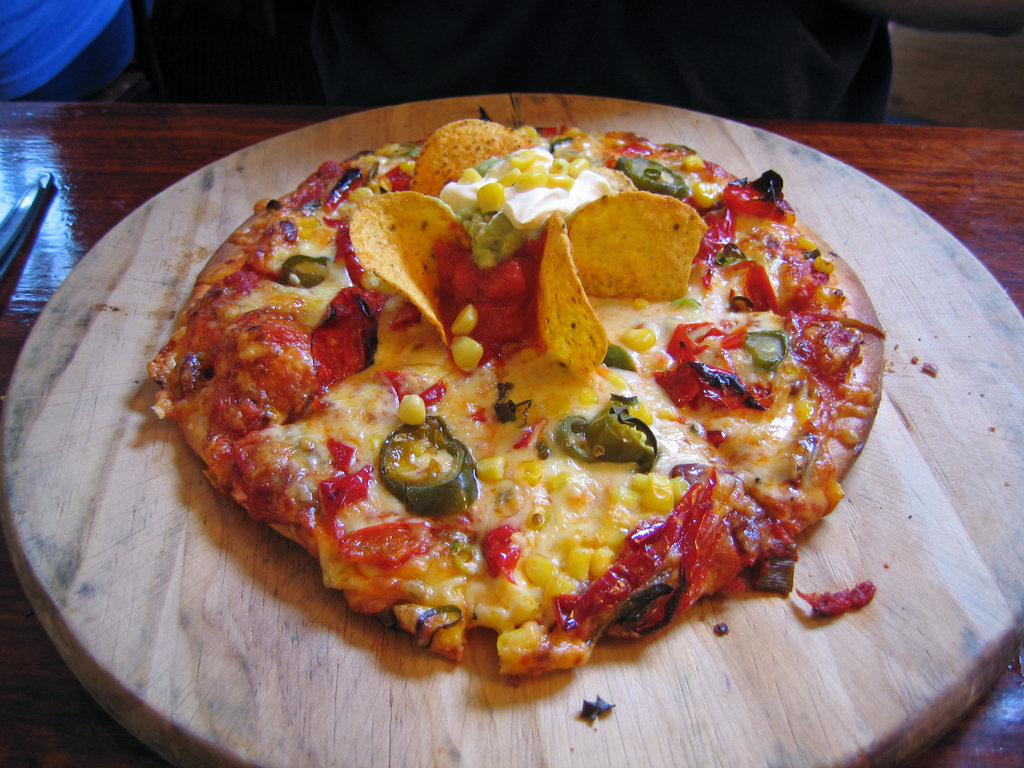Pizza: (131, 145, 888, 699)
